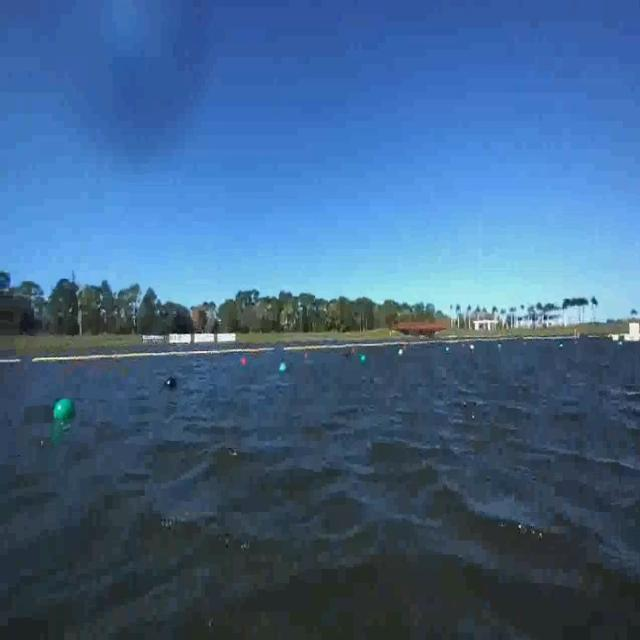black-buoy: (165, 377, 178, 390)
green-buoy: (53, 398, 77, 425)
red-buoy: (241, 357, 248, 366)
